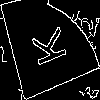K: (25, 25, 67, 72)
